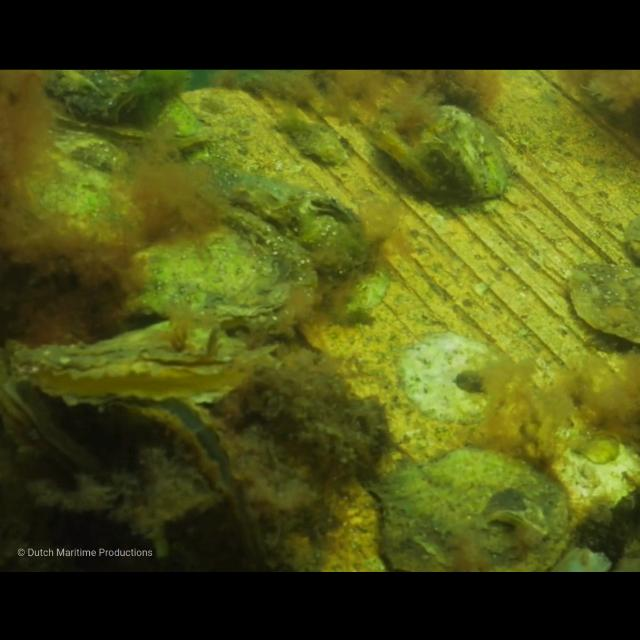Oyster-Closed: (114, 202, 320, 330), (371, 446, 574, 572), (17, 125, 155, 248), (367, 101, 507, 205), (40, 68, 150, 122), (568, 261, 640, 343)
Oyster-Open: (14, 316, 280, 406), (140, 396, 274, 572), (229, 181, 369, 271), (41, 88, 211, 152), (0, 374, 94, 478)
